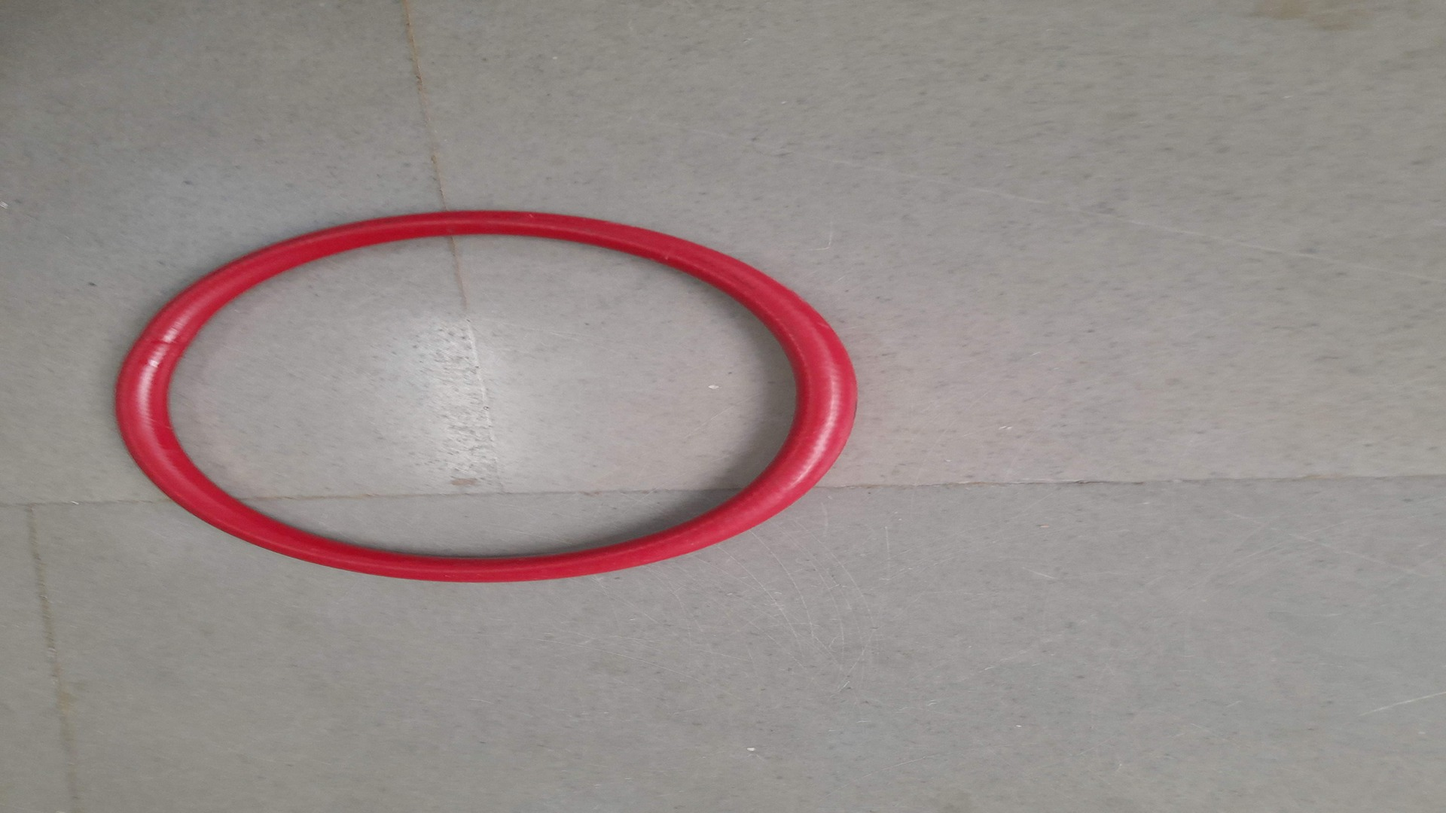Red ring: (114, 213, 859, 581)
